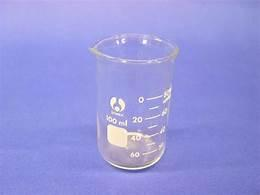Beaker: (85, 37, 179, 176)
